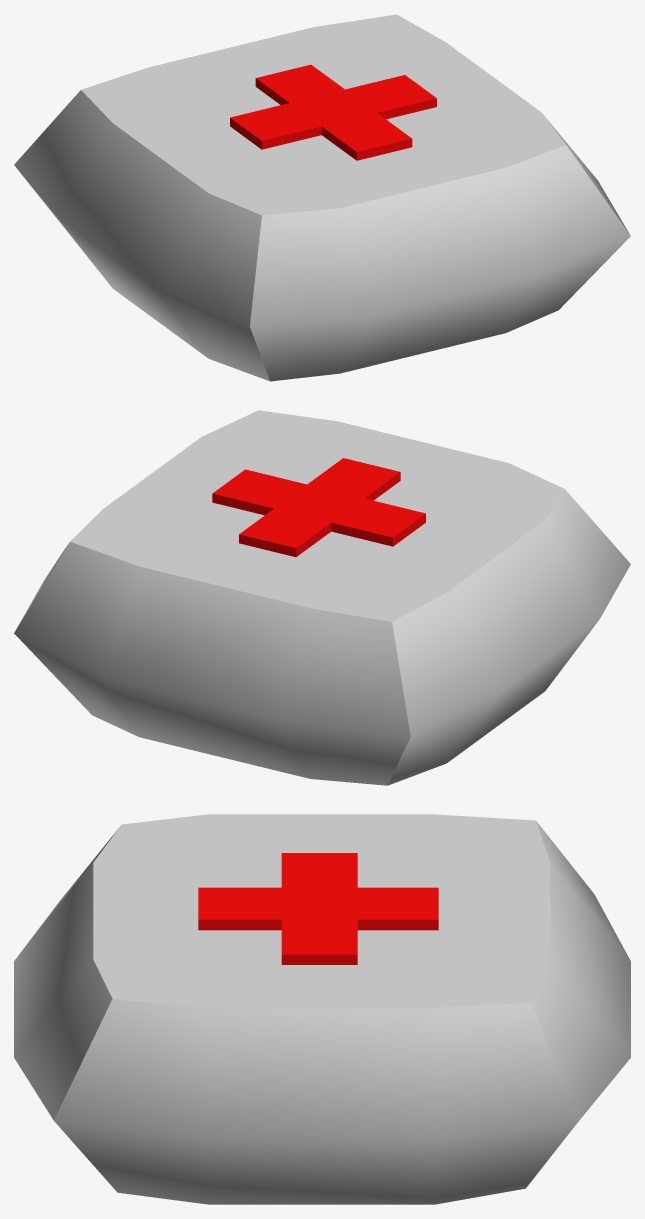
Rendered from Medkit.FBX.
3 views of the same model, one above another, from view 1: azimuth 30°, elevation 25°; view 2: azimuth 150°, elevation 25°; view 3: azimuth 270°, elevation 25° (orthographic). The views are drawn at different scales.
Parts seen in each view (by area): view 1: Medkit; view 2: Medkit; view 3: Medkit.
Part boxes in pixels (bbox=[...]): Medkit: bbox=[14, 14, 630, 381]; Medkit: bbox=[14, 410, 630, 785]; Medkit: bbox=[14, 814, 630, 1204].
Bounding box in the file's own units: 133 × 50.09 × 135.
